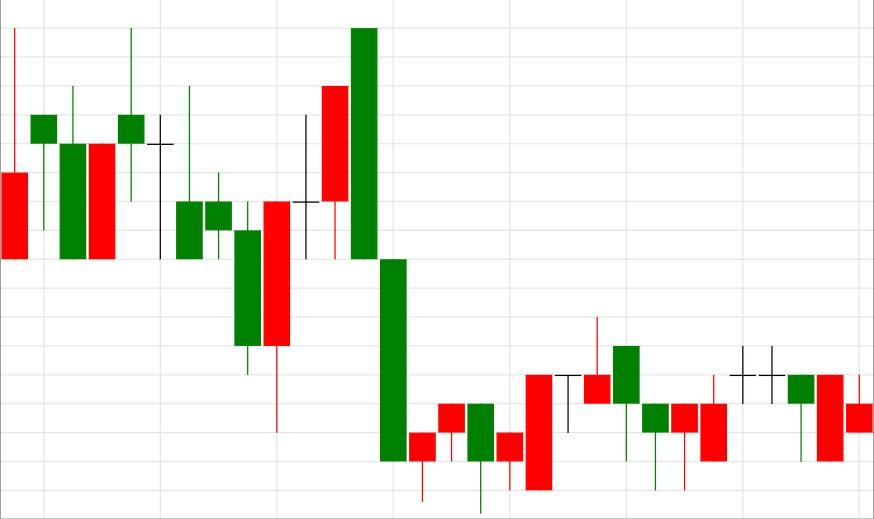bearish_engulfing_fall: (234, 28, 379, 434), (408, 403, 495, 513)
bullish_engulfing_rise: (117, 28, 291, 433)
hammer_rise: (583, 317, 670, 490)
